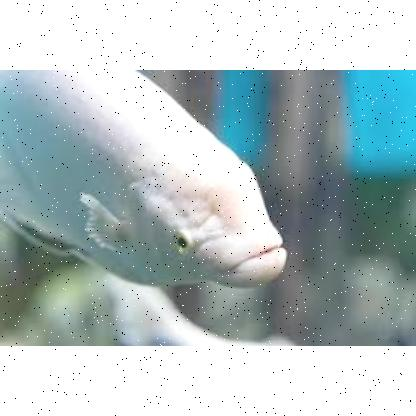gurame: (0, 69, 288, 292)
